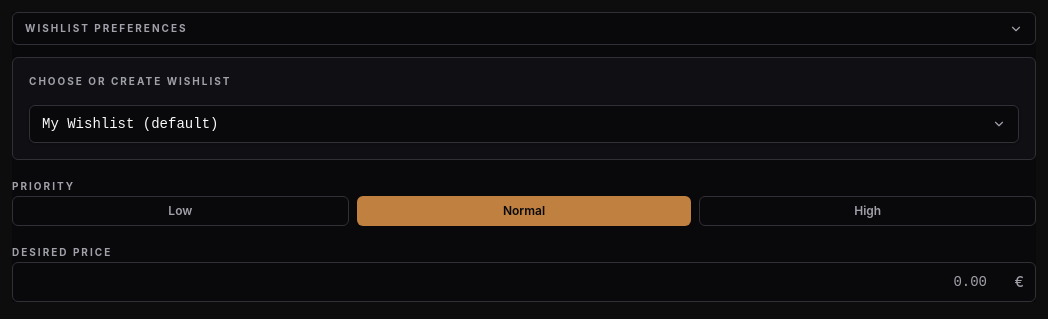
Test: WishlistSection › filters wishlists by search query and shows Create option for no-exact-match input
Note: Open the combobox
Click the button with aria-label "select a wishlist" at x=130, y=124, box [29,105,1019,143]
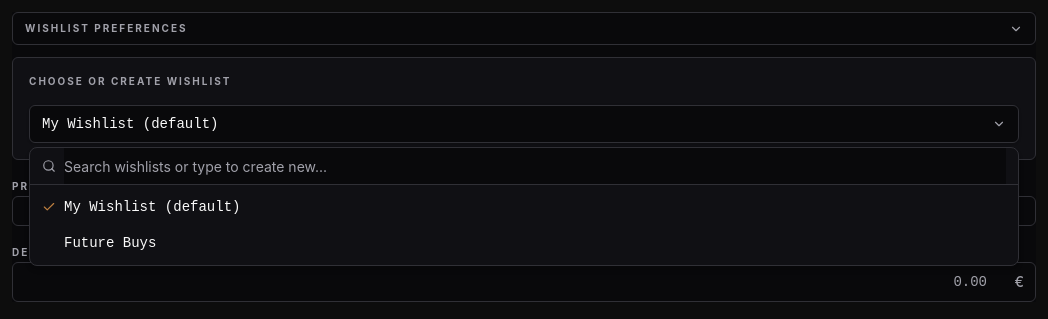
Result: the field with placeholder "Search wishlists or type to create new..." is shown
Note: Type a query that partially matches one wishlist
Type "My" into the field with placeholder "Search wishlists or type to create new..." at x=535, y=166, box [64,148,1006,184]
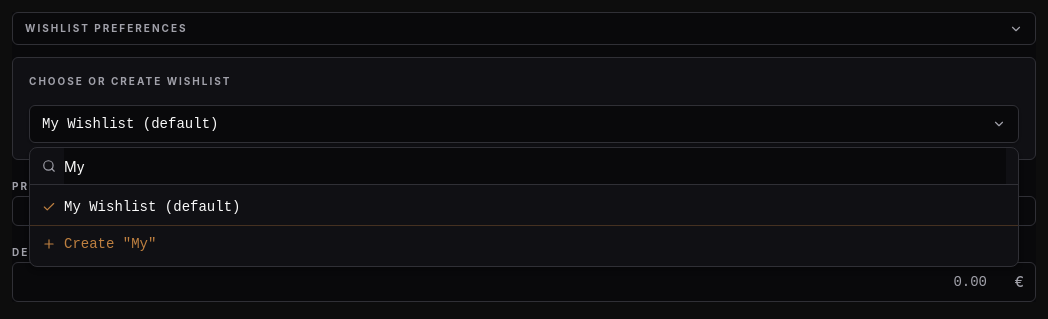
Result: the option "My Wishlist (default)" is shown at [30,189,1018,225]
Result: the option "Future Buys" is gone
Note: Type a query with no match — Create option should appear
Replace the text in the field with placeholder "Search wishlists or type to create new..." with "Brand New List" at x=535, y=166, box [64,148,1006,184]
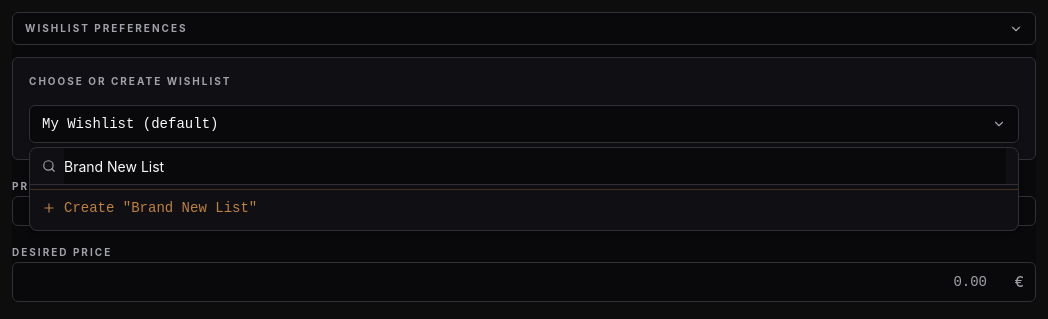
Result: the button "Create \"Brand New List\"" is shown at [30,189,1018,226]
